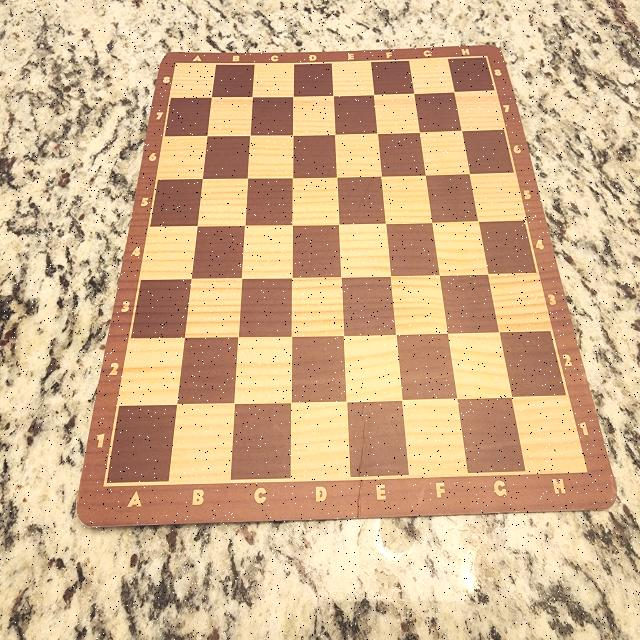Bottom-Left: (105, 405, 177, 484)
Bottom-Right: (512, 397, 586, 471)
Top-Left: (177, 63, 213, 99)
Top-Right: (455, 55, 489, 93)
